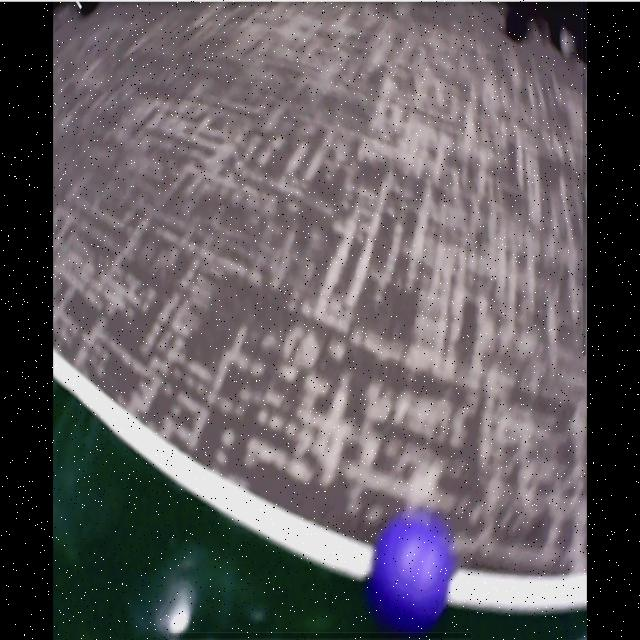ball: (375, 521, 447, 630)
